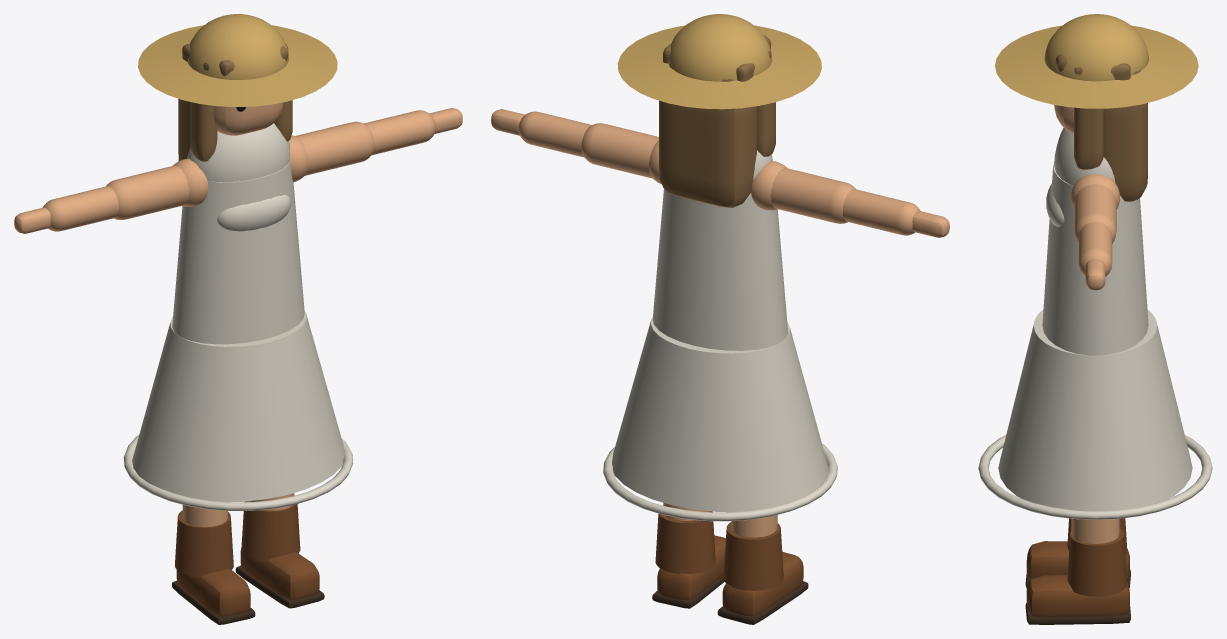
The model's file is greta.glb.
3 renders of one model, left to right at view 1: azimuth 30°, elevation 25°; view 2: azimuth 150°, elevation 25°; view 3: azimuth 270°, elevation 25°, orthographic. The views are drawn at different scales.
Parts seen in each view (by area): view 1: greta_dress_skirt, greta_dress_bodice, greta_sunhat_brim, greta_sunhat_crown, greta_top_shoulders, greta_upperarm_l, greta_boot_shaft_l, greta_upperarm_r, greta_boot_shaft_r, greta_dress_hem, greta_boot_r, greta_boot_l (+13 smaller); view 2: greta_dress_skirt, greta_dress_bodice, greta_hair_long, greta_sunhat_brim, greta_sunhat_crown, greta_boot_shaft_l, greta_upperarm_l, greta_boot_shaft_r, greta_upperarm_r, greta_dress_hem, greta_forearm_l, greta_forearm_r (+8 smaller); view 3: greta_dress_skirt, greta_dress_bodice, greta_sunhat_brim, greta_sunhat_crown, greta_hair_long, greta_dress_hem, greta_boot_shaft_r, greta_boot_r, greta_hair_lock_r, greta_upperarm_r, greta_boot_l, greta_forearm_r (+8 smaller).
Boxes of the visible parts, box(x1,y1,x2,y2) form: greta_dress_skirt: box(132, 311, 344, 502); greta_dress_bodice: box(172, 161, 304, 344); greta_sunhat_brim: box(138, 25, 337, 106); greta_sunhat_crown: box(187, 14, 288, 79); greta_top_shoulders: box(187, 123, 289, 182); greta_upperarm_l: box(106, 165, 189, 219); greta_boot_shaft_l: box(175, 510, 233, 577); greta_upperarm_r: box(295, 121, 374, 175); greta_boot_shaft_r: box(241, 501, 300, 561); greta_dress_hem: box(123, 435, 353, 510); greta_boot_r: box(240, 548, 319, 599); greta_boot_l: box(176, 569, 250, 616); greta_dress_skirt: box(612, 317, 828, 512); greta_dress_bodice: box(652, 189, 788, 350); greta_hair_long: box(659, 100, 756, 207); greta_sunhat_brim: box(617, 25, 821, 109); greta_sunhat_crown: box(668, 14, 772, 81); greta_boot_shaft_l: box(723, 522, 783, 590); greta_upperarm_l: box(770, 167, 855, 223); greta_boot_shaft_r: box(655, 511, 715, 574); greta_upperarm_r: box(581, 123, 658, 178); greta_dress_hem: box(603, 443, 837, 521); greta_forearm_l: box(842, 189, 920, 235); greta_forearm_r: box(518, 111, 591, 157); greta_dress_skirt: box(998, 310, 1192, 511); greta_dress_bodice: box(1042, 160, 1148, 355); greta_sunhat_brim: box(995, 25, 1198, 108); greta_sunhat_crown: box(1044, 14, 1148, 81); greta_hair_long: box(1103, 103, 1147, 201); greta_dress_hem: box(978, 435, 1212, 519); greta_boot_shaft_r: box(1067, 528, 1127, 596); greta_boot_r: box(1026, 575, 1129, 617); greta_hair_lock_r: box(1074, 107, 1103, 169); greta_upperarm_r: box(1074, 184, 1116, 243); greta_boot_l: box(1026, 541, 1129, 580); greta_forearm_r: box(1078, 221, 1112, 276).
Size of the model in its own units: 1.45 by 1.78 by 0.6498.
